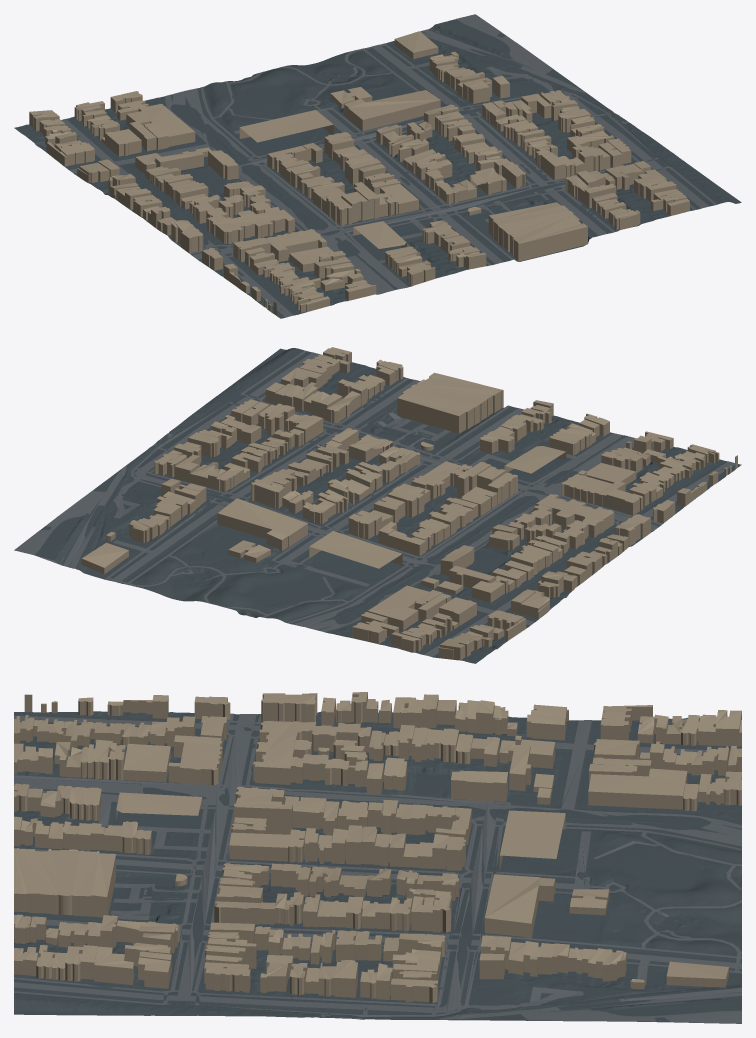
The model's file is epsg26910-1438-10881.lod0.glb.
3 renders of one model, top to bottom at view 1: azimuth 30°, elevation 25°; view 2: azimuth 150°, elevation 25°; view 3: azimuth 270°, elevation 25°, orthographic. The views are drawn at different scales.
Parts seen in each view (by area): view 1: epsg26910-1438-10881-lod0; view 2: epsg26910-1438-10881-lod0; view 3: epsg26910-1438-10881-lod0.
Boxes of the visible parts, bbox=[...] form: epsg26910-1438-10881-lod0: bbox=[14, 14, 741, 318]; epsg26910-1438-10881-lod0: bbox=[14, 347, 741, 663]; epsg26910-1438-10881-lod0: bbox=[14, 692, 741, 1023].
Size of the model in its own units: 384 by 25.64 by 384.
